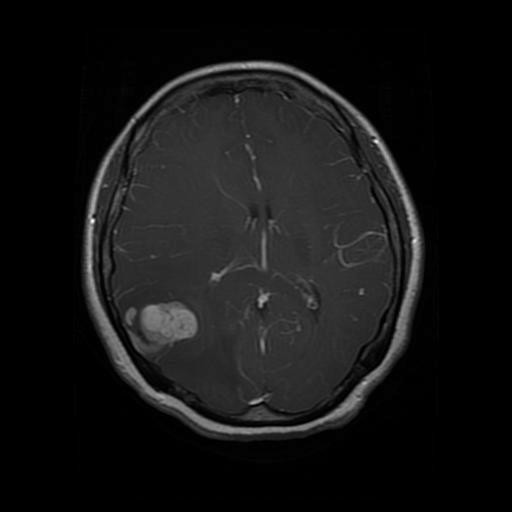Tumour-Glioma: (117, 286, 207, 364)
